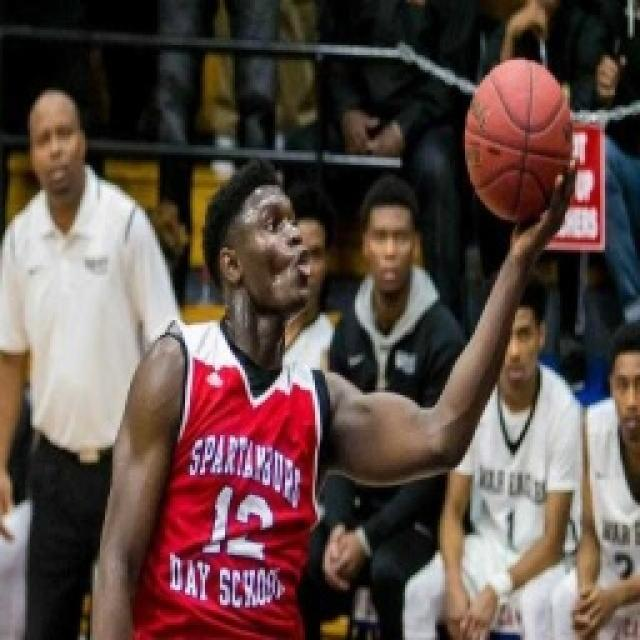rim: (458, 50, 582, 228)
